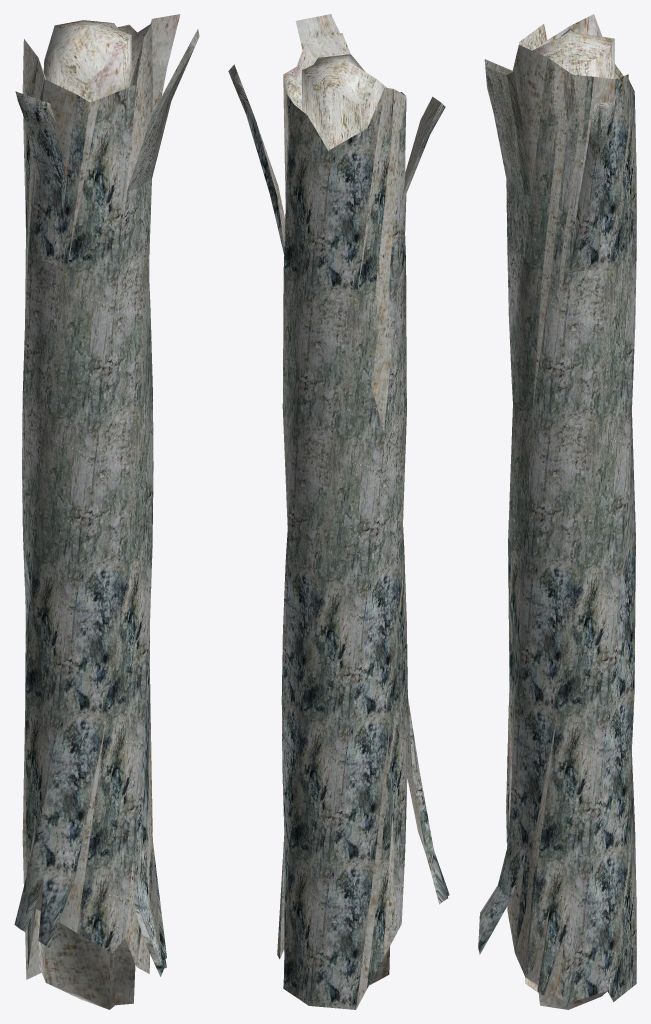
Rendered from tree_destroyed_snow_fallen_log_a.glb.
3 renders of one model, left to right at view 1: azimuth 30°, elevation 25°; view 2: azimuth 150°, elevation 25°; view 3: azimuth 270°, elevation 25°, orthographic. The views are drawn at different scales.
Size of the model in its own units: 36.67 by 174 by 25.96.
Materials: 1 (1 with a texture image).
